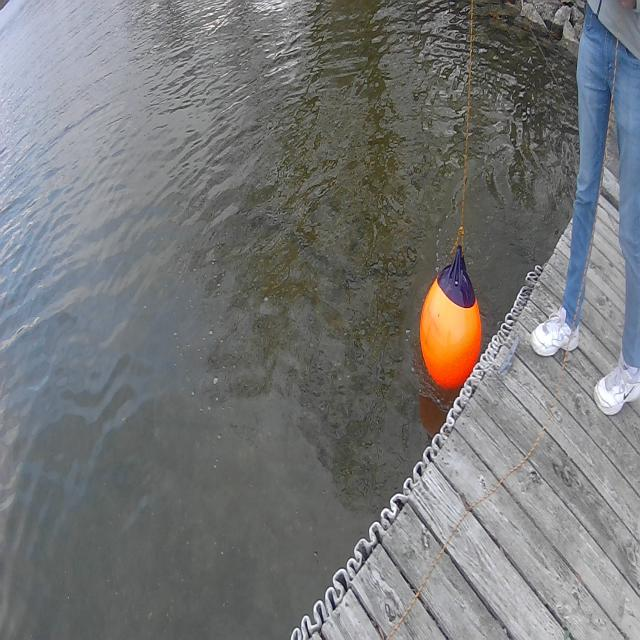Buoy: (414, 241, 487, 407)
